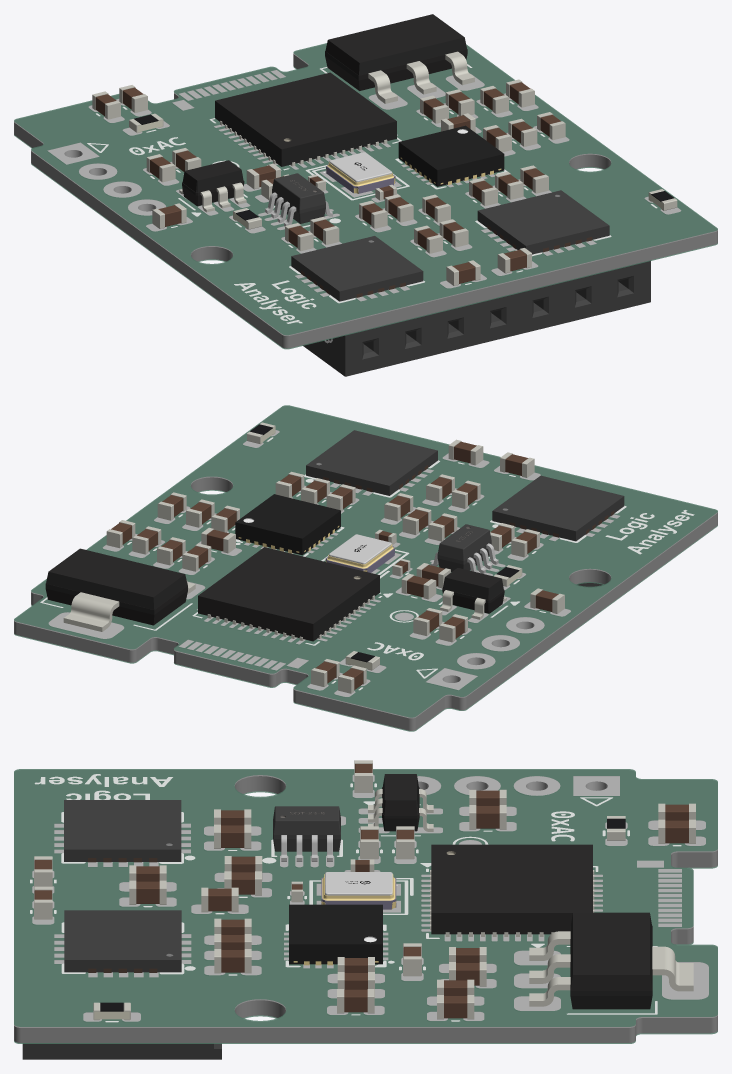
The model's file is board.glb.
3 renders of one model, top to bottom at view 1: azimuth 30°, elevation 25°; view 2: azimuth 150°, elevation 25°; view 3: azimuth 270°, elevation 25°, orthographic. The views are drawn at different scales.
Parts seen in each view (by area): view 1: =>[0:1:1:16], =>[0:1:1:15], J3, U3, =>[0:1:1:13], U2, U5, U6, U1, =>[0:1:1:14], U7, U4 (+23 smaller); view 2: =>[0:1:1:16], =>[0:1:1:15], U3, =>[0:1:1:13], U2, U5, U6, U1, =>[0:1:1:14], U7, U4, X1 (+25 smaller); view 3: =>[0:1:1:16], =>[0:1:1:15], =>[0:1:1:13], U3, U2, U6, U5, U1, =>[0:1:1:14], J3, U4, U7 (+29 smaller).
Boxes of the visible parts, box(x1,y1,x2,y2) form: =>[0:1:1:16]: box(14, 44, 717, 348); =>[0:1:1:15]: box(14, 43, 717, 349); J3: box(303, 261, 650, 376); U3: box(215, 72, 396, 166); =>[0:1:1:13]: box(47, 70, 681, 301); U2: box(325, 14, 474, 103); U5: box(291, 236, 423, 301); U6: box(477, 190, 609, 254); U1: box(398, 125, 504, 186); =>[0:1:1:14]: box(87, 64, 657, 323); U7: box(179, 160, 246, 212); U4: box(265, 173, 332, 226); =>[0:1:1:16]: box(14, 406, 717, 730); =>[0:1:1:15]: box(14, 405, 717, 731); U3: box(198, 547, 379, 641); =>[0:1:1:13]: box(48, 430, 620, 697); U2: box(45, 548, 195, 631); U5: box(492, 475, 624, 541); U6: box(306, 430, 437, 495); U1: box(235, 494, 340, 555); =>[0:1:1:14]: box(40, 437, 694, 690); U7: box(440, 568, 506, 619); U4: box(430, 524, 498, 573); X1: box(325, 534, 394, 572); =>[0:1:1:16]: box(14, 770, 717, 1042); =>[0:1:1:15]: box(14, 769, 717, 1043); =>[0:1:1:13]: box(32, 774, 708, 1021); U3: box(430, 844, 594, 936); U2: box(529, 912, 693, 1009); U6: box(64, 910, 181, 972); U5: box(64, 800, 181, 862); U1: box(289, 904, 382, 965); =>[0:1:1:14]: box(30, 774, 681, 1022); J3: box(22, 1043, 221, 1059); U4: box(273, 806, 340, 861); U7: box(368, 774, 433, 831).
Size of the model in its own units: 0.026 by 0.0051 by 0.03.
